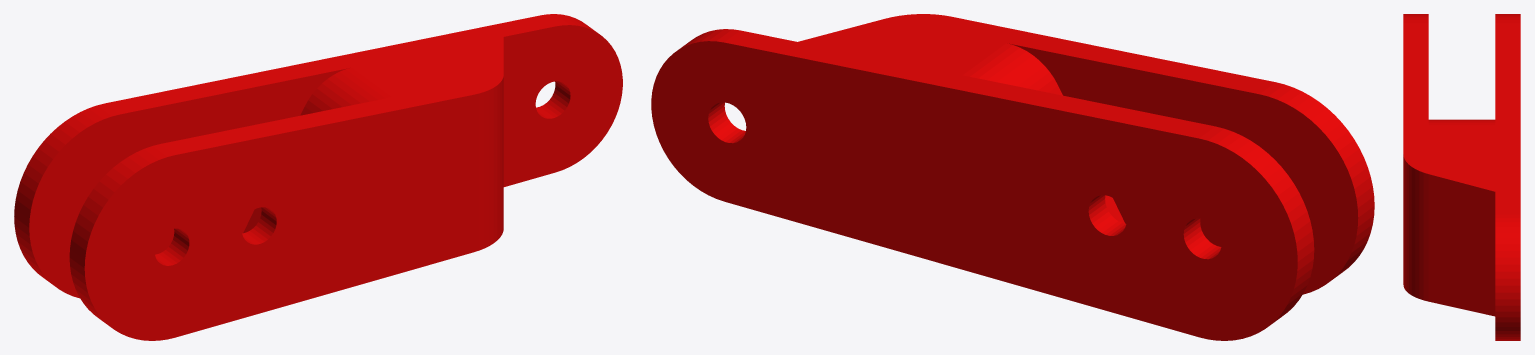
Rendered from lower_lleg.dae.
3 views of the same model, side by side, from view 1: azimuth 30°, elevation 25°; view 2: azimuth 150°, elevation 25°; view 3: azimuth 270°, elevation 25° (orthographic). The views are drawn at different scales.
Visible parts, largest first — view 1: Lower Lleg; view 2: Lower Lleg; view 3: Lower Lleg.
Part boxes in pixels (x1,y1,x2,y2): Lower Lleg: (14,14,622,340); Lower Lleg: (651,14,1374,340); Lower Lleg: (1403,14,1520,340).
Size of the model in its own units: 0.17 by 0.035 by 0.05.
